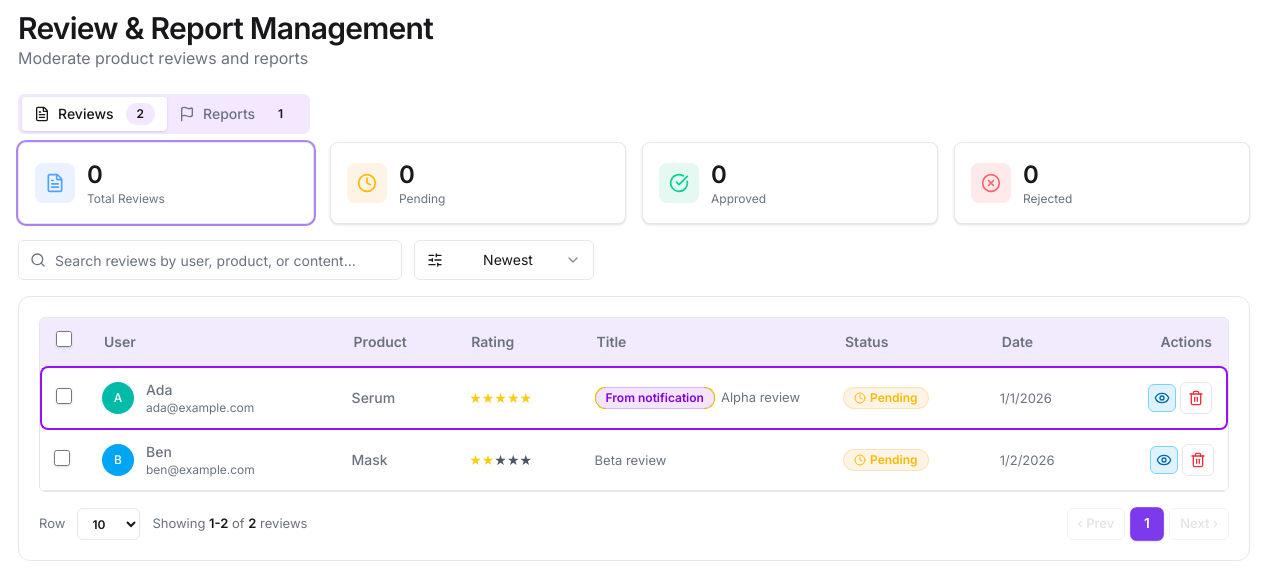
Test: ReviewManagement notification highlight › drops the highlight when the admin switches tabs
Expected: the text "Alpha review" is shown, [721,389,800,405]
Click the tab "Reports 1": (237, 114) [167,97,306,131]
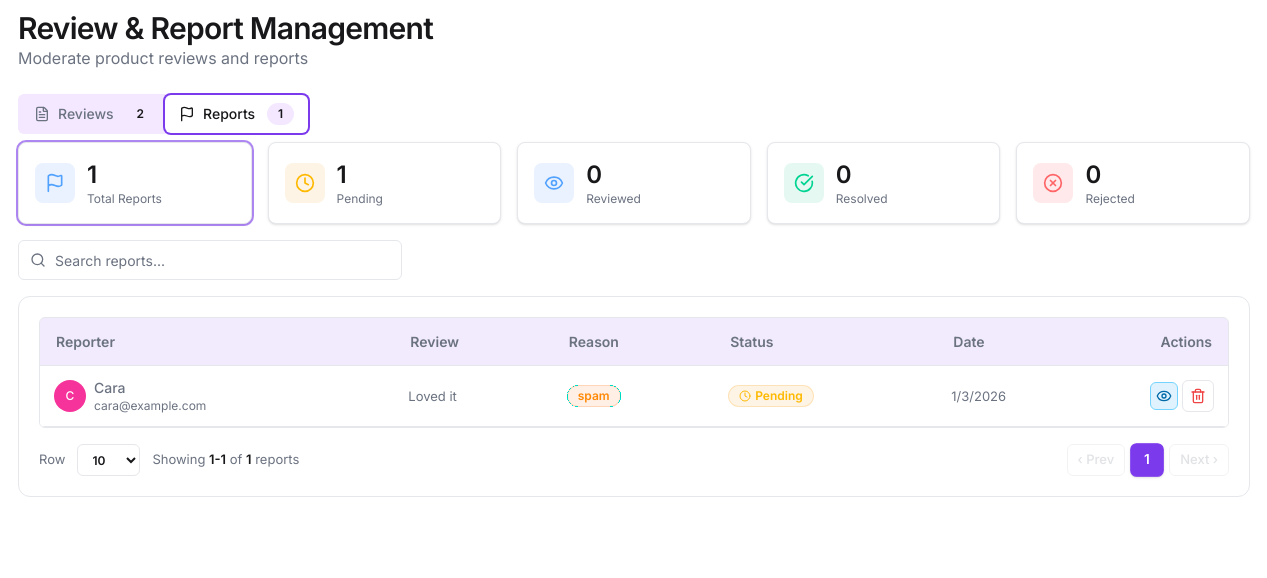
Now the text "From notification" is gone
